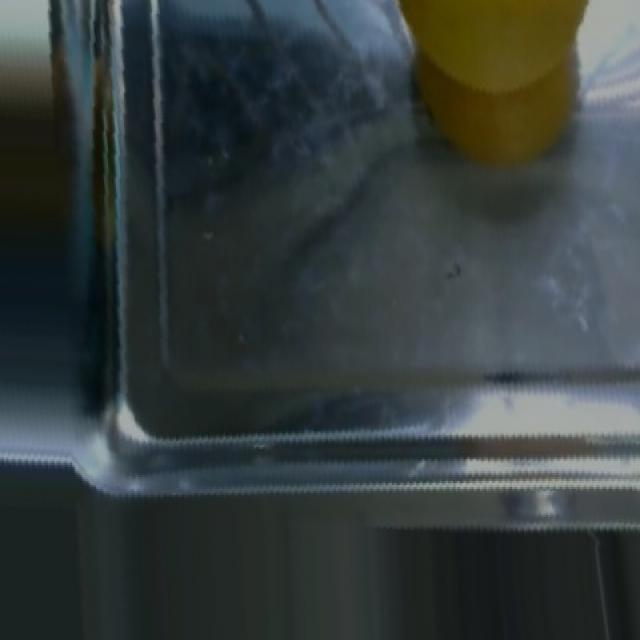Fruit: (369, 0, 612, 189)
